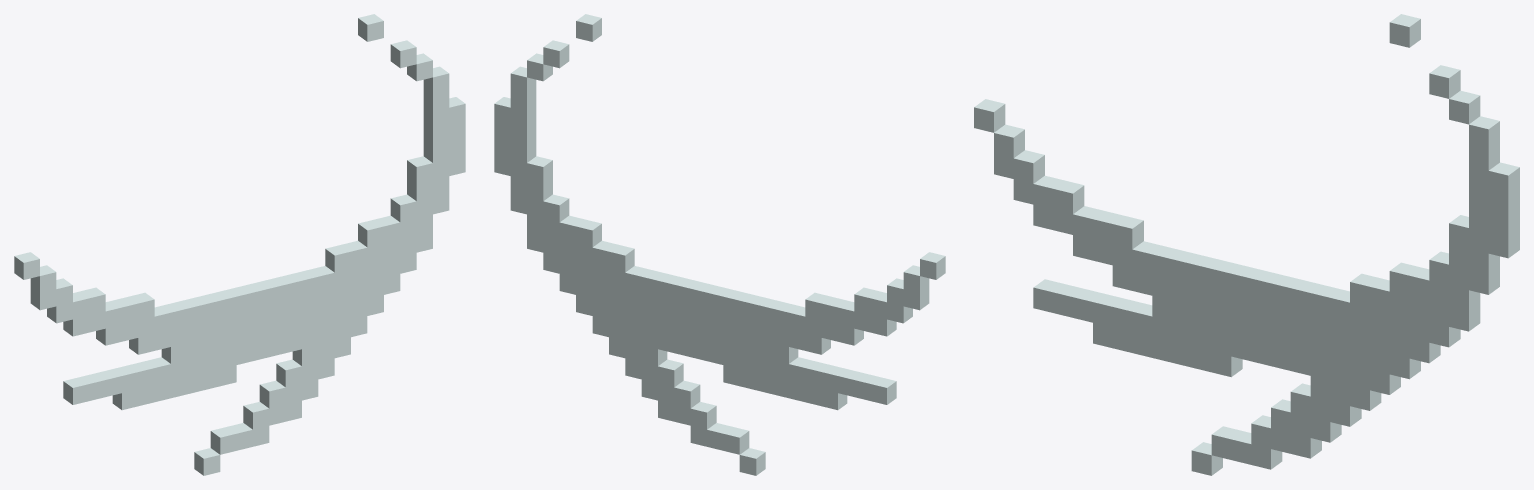
The model's file is Fight_109_2_04_fx.obj.
The picture shows the model from 3 angles, left to right: view 1: azimuth 30°, elevation 25°; view 2: azimuth 150°, elevation 25°; view 3: azimuth 330°, elevation 25°; orthographic projection. The views are drawn at different scales.
Bounding box in the file's own units: 2.7 × 2.4 × 0.1.
Materials: 1 (1 with a texture image).
